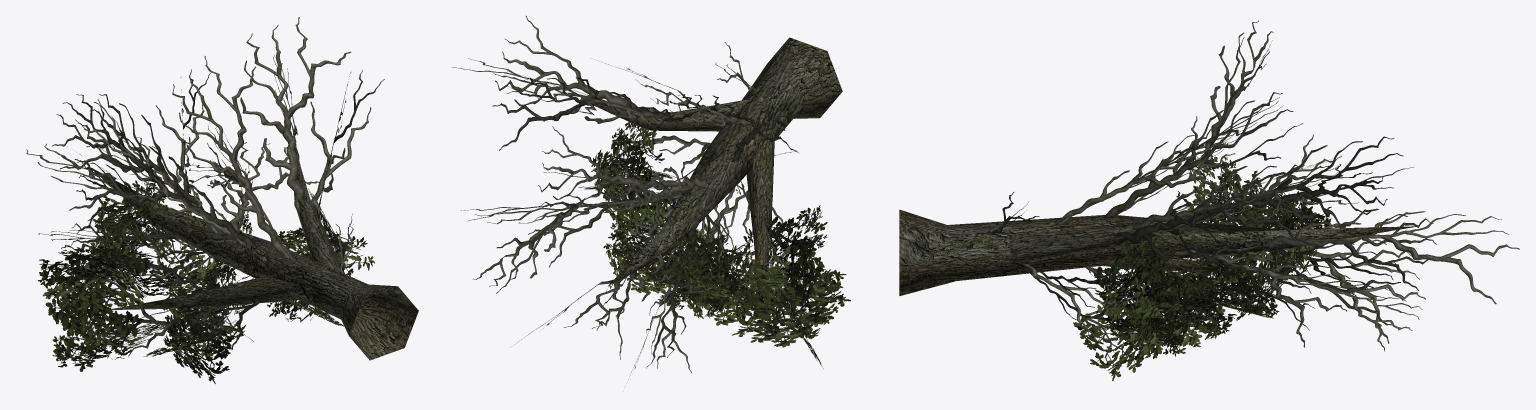
File: MEP_Oak_06.fbx
3 views of the same model, side by side, from view 1: azimuth 30°, elevation 25°; view 2: azimuth 150°, elevation 25°; view 3: azimuth 270°, elevation 25° (orthographic). The views are drawn at different scales.
Parts seen in each view (by area): view 1: MEP_Oak_06, MEP_Oak_Trunk_06; view 2: MEP_Oak_06, MEP_Oak_Trunk_06; view 3: MEP_Oak_06, MEP_Oak_Trunk_06.
Boxes of the visible parts, x1,y1,x2,y2 form: MEP_Oak_06: (26,17,384,383); MEP_Oak_Trunk_06: (90,148,418,360); MEP_Oak_06: (452,16,850,379); MEP_Oak_Trunk_06: (585,37,842,316); MEP_Oak_06: (987,20,1519,380); MEP_Oak_Trunk_06: (899,201,1417,295).
Size of the model in its own units: 13.1 by 10.3 by 18.76.
